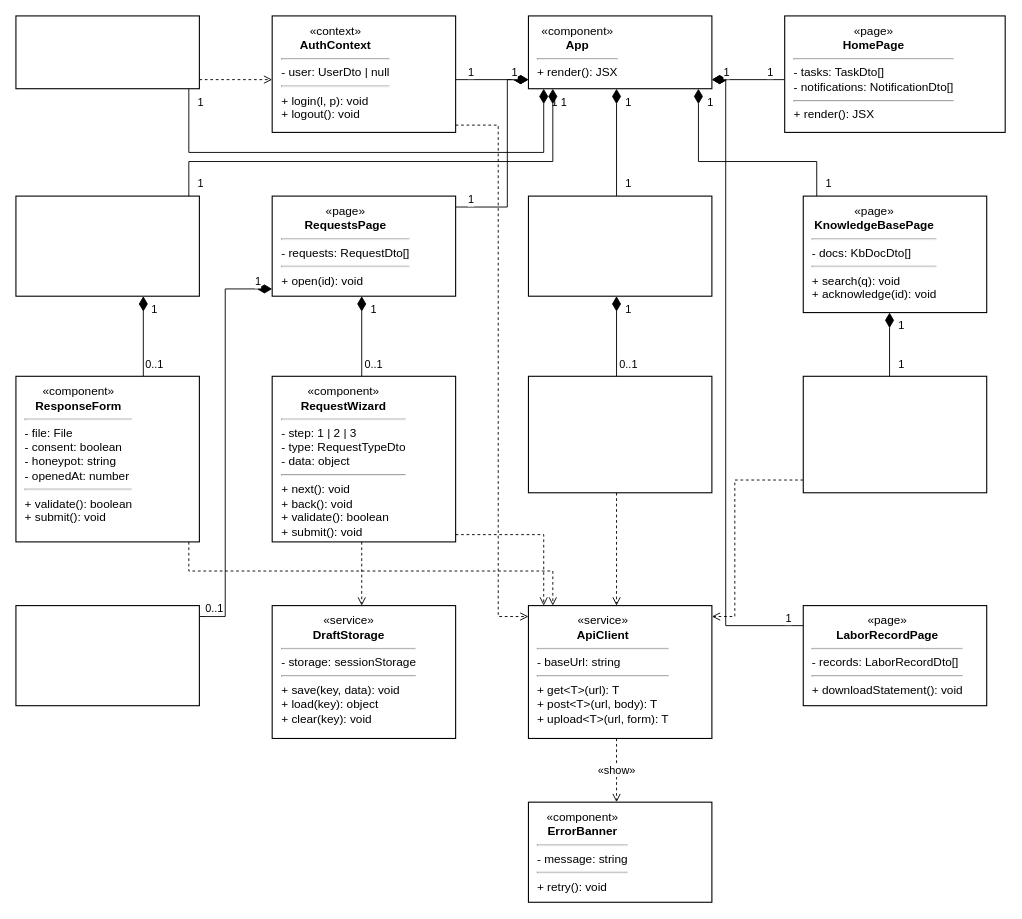
The diagram is 1022 pixels wide and 919 high, and some of its shapes have lost their labels. Each missing label, with the centre of its shape:
"«component» AssistantPanel - question: string - answer: AnswerDto + ask(): void" belongs at (894,434).
"«component» RequestStatusTimeline - history: StatusDto[] + render(): JSX" belongs at (107,655).
"«component» SignDialog - code: string + requestCode(): void + confirm(): void" belongs at (619,434).
"«page» DocumentsPage - documents: DocumentDto[] + download(id): void" belongs at (619,245).
"«page» LoginPage + submit(): void" belongs at (107,52).
"«page» VacanciesPage - vacancies: VacancyDto[] + render(): JSX" belongs at (107,245).
